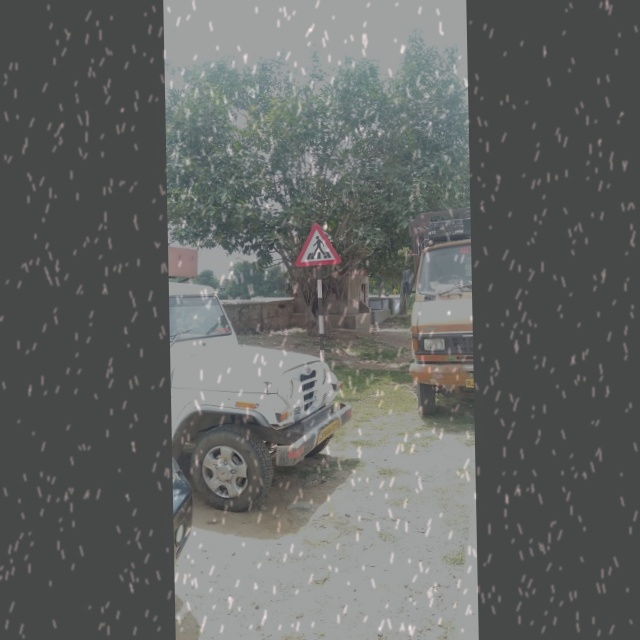Pedestrian_Crossing: (288, 213, 353, 271)
